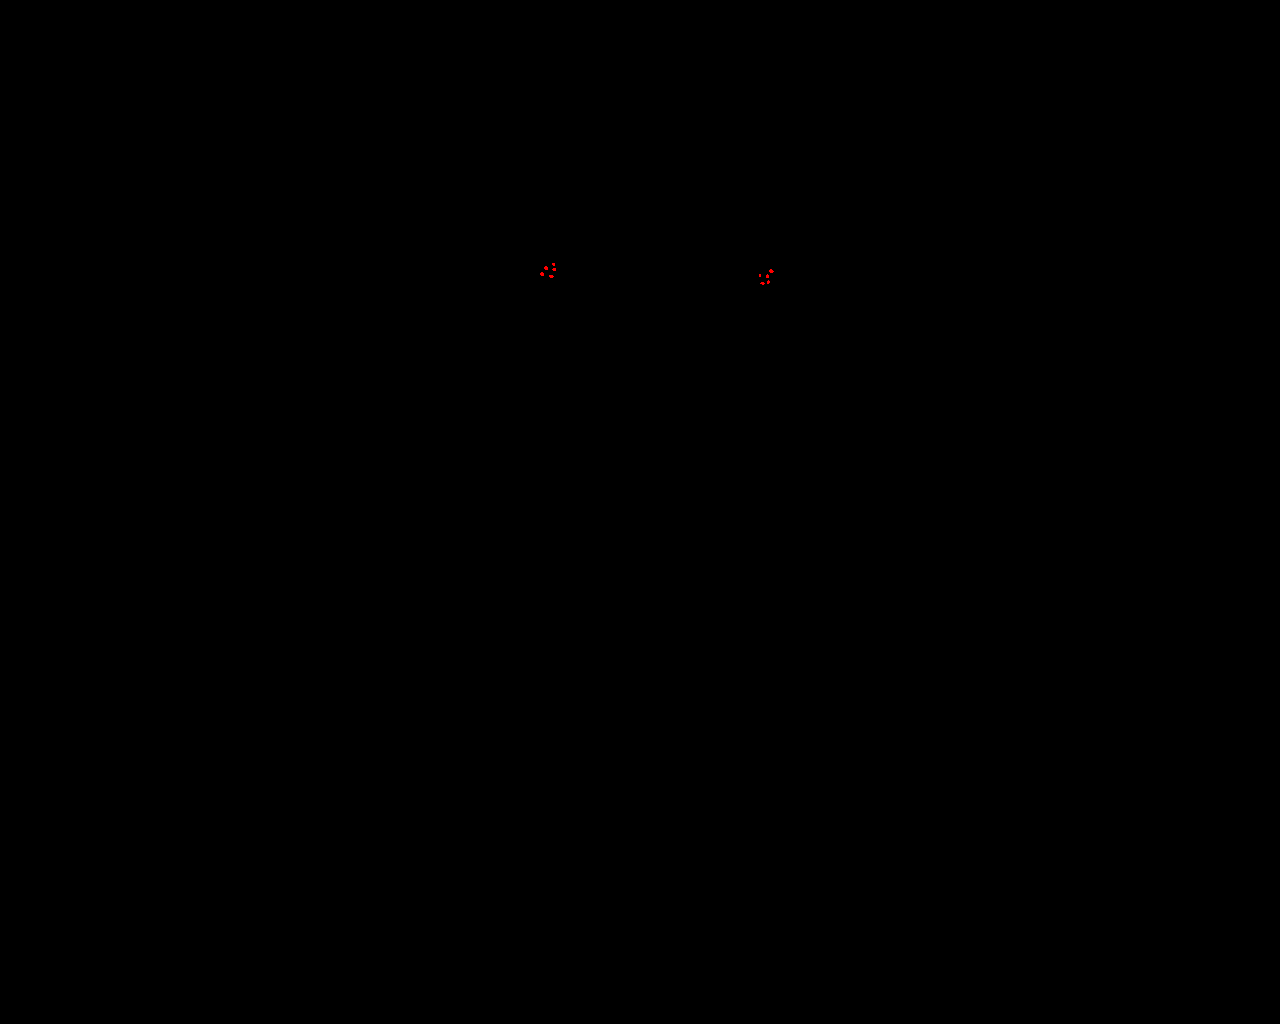Target: (769, 269, 774, 273), (540, 272, 544, 276), (549, 275, 554, 278), (760, 282, 765, 285), (552, 267, 556, 271), (766, 274, 769, 278), (767, 280, 770, 284), (552, 263, 555, 266), (544, 266, 548, 270), (759, 274, 761, 277)
